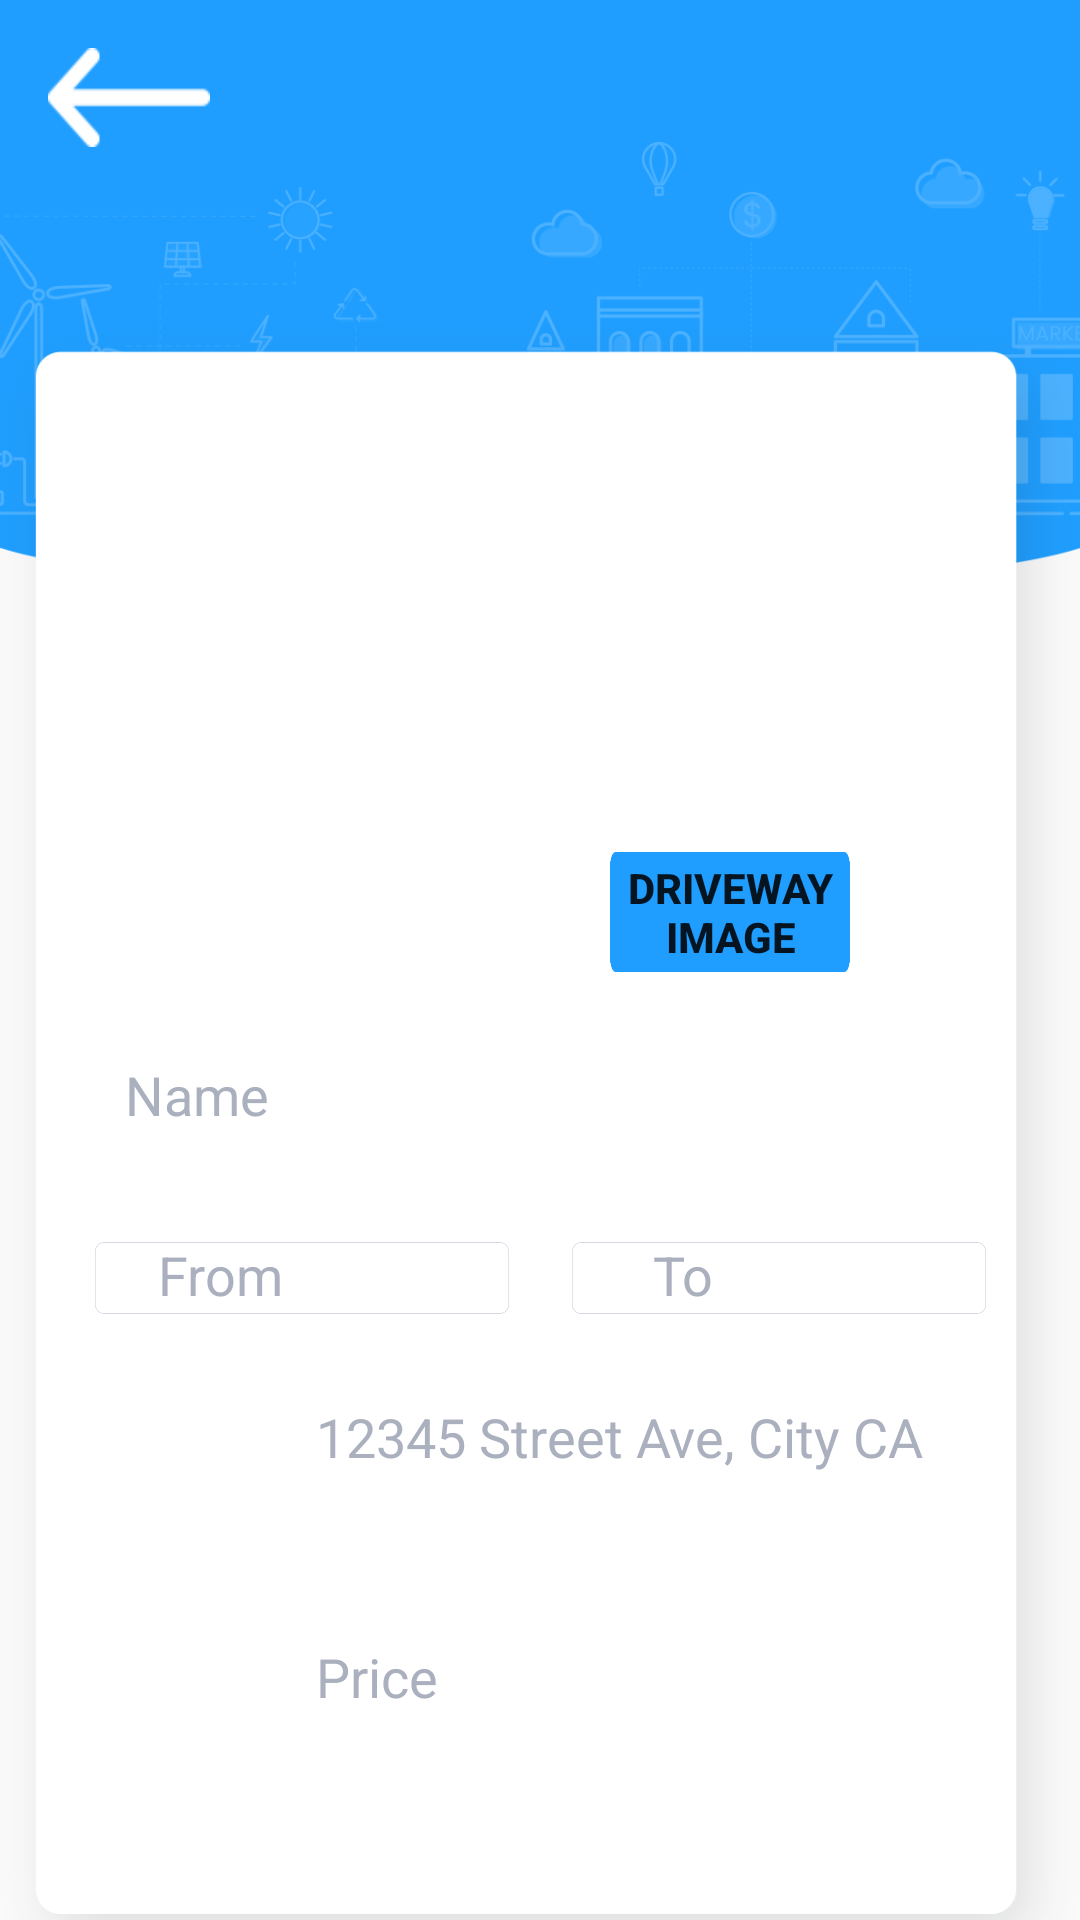

Where to tap for icons on this 1080px x 1920px app screen, as (x,y):
backarrow: (129,97)
